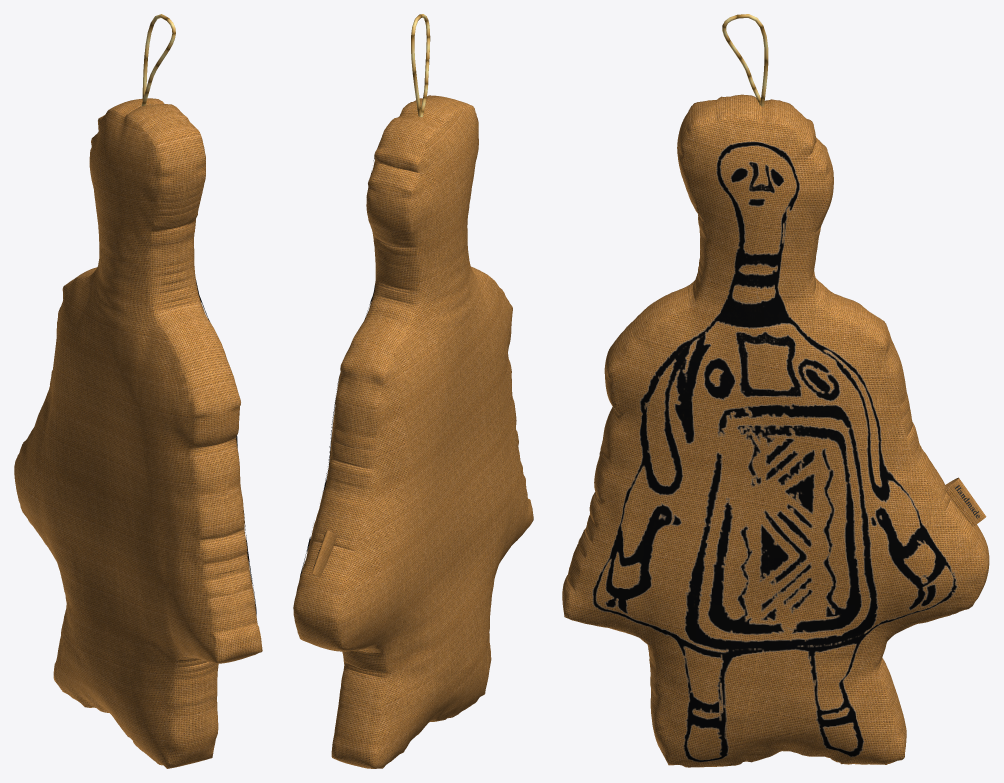
The model's file is 3_orange.glb.
The picture shows the model from 3 angles, left to right: view 1: azimuth 30°, elevation 25°; view 2: azimuth 150°, elevation 25°; view 3: azimuth 270°, elevation 25°; orthographic projection. The views are drawn at different scales.
Visible parts, largest first — view 1: Plane.004, BezierCircle.002; view 2: Plane.004, BezierCircle.002, BezierCurve.002; view 3: Plane.004, qweqweqwe.001, BezierCircle.002, BezierCurve.002.
Part boxes in pixels (x1=…): Plane.004: x1=14, y1=98, x2=262, y2=768; BezierCircle.002: x1=141, y1=14, x2=175, y2=105; Plane.004: x1=293, y1=95, x2=533, y2=768; BezierCircle.002: x1=411, y1=14, x2=430, y2=116; BezierCurve.002: x1=312, y1=530, x2=337, y2=577; Plane.004: x1=562, y1=94, x2=989, y2=767; qweqweqwe.001: x1=592, y1=141, x2=957, y2=762; BezierCircle.002: x1=722, y1=14, x2=768, y2=106; BezierCurve.002: x1=944, y1=477, x2=986, y2=526.
Bounding box in the file's own units: 0.7865 × 5.69 × 2.93.
4 materials, 3 textured.
